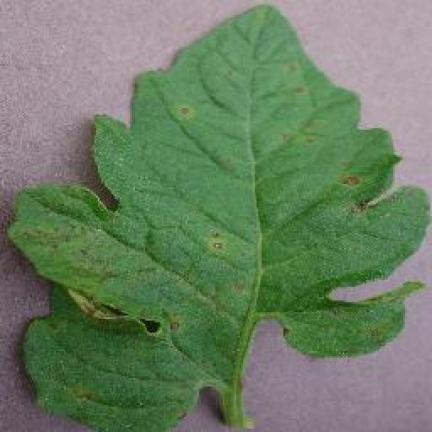disease: (10, 7, 427, 430)
leaf: (105, 196, 116, 209)
